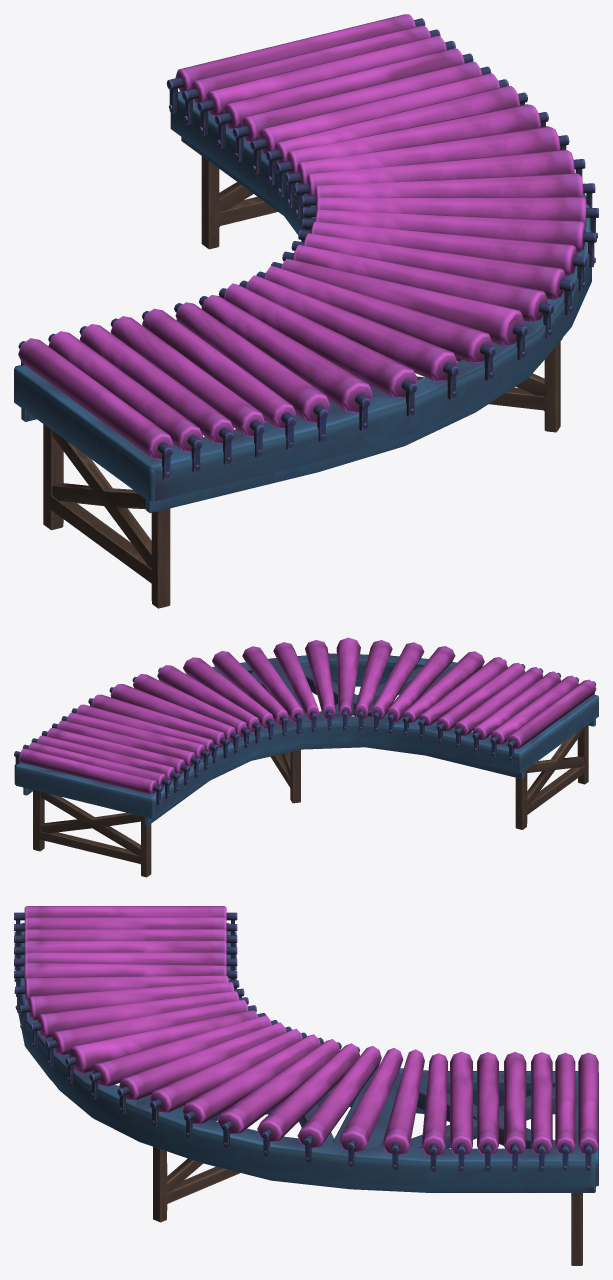
File: hub_conveyor_belt_curved.fbx
The picture shows the model from 3 angles, top to bottom: view 1: azimuth 30°, elevation 25°; view 2: azimuth 150°, elevation 25°; view 3: azimuth 270°, elevation 25°; orthographic projection. The views are drawn at different scales.
Parts seen in each view (by area): view 1: conveyor_curved_rollers, conveyor_curved_frame, conveyor_leg2, conveyor_leg3, conveyor_leg1; view 2: conveyor_curved_rollers, conveyor_curved_frame, conveyor_leg3, conveyor_leg2, conveyor_leg1; view 3: conveyor_curved_rollers, conveyor_curved_frame, conveyor_leg1, conveyor_leg3.
Boxes of the visible parts, x1,y1,x2,y2 form: conveyor_curved_rollers: (18,14,598,480); conveyor_curved_frame: (14,91,591,513); conveyor_leg2: (43,424,170,608); conveyor_leg3: (201,156,277,249); conveyor_leg1: (417,342,560,432); conveyor_curved_rollers: (14,637,596,805); conveyor_curved_frame: (14,653,598,825); conveyor_leg3: (33,790,151,877); conveyor_leg2: (515,725,588,829); conveyor_leg1: (270,750,300,803); conveyor_curved_rollers: (14,906,598,1172); conveyor_curved_frame: (18,923,598,1192); conveyor_leg1: (153,1114,268,1222); conveyor_leg3: (571,1193,582,1265).
Bounding box in the file's own units: 911 × 244 × 935.
1 material, 1 textured.
